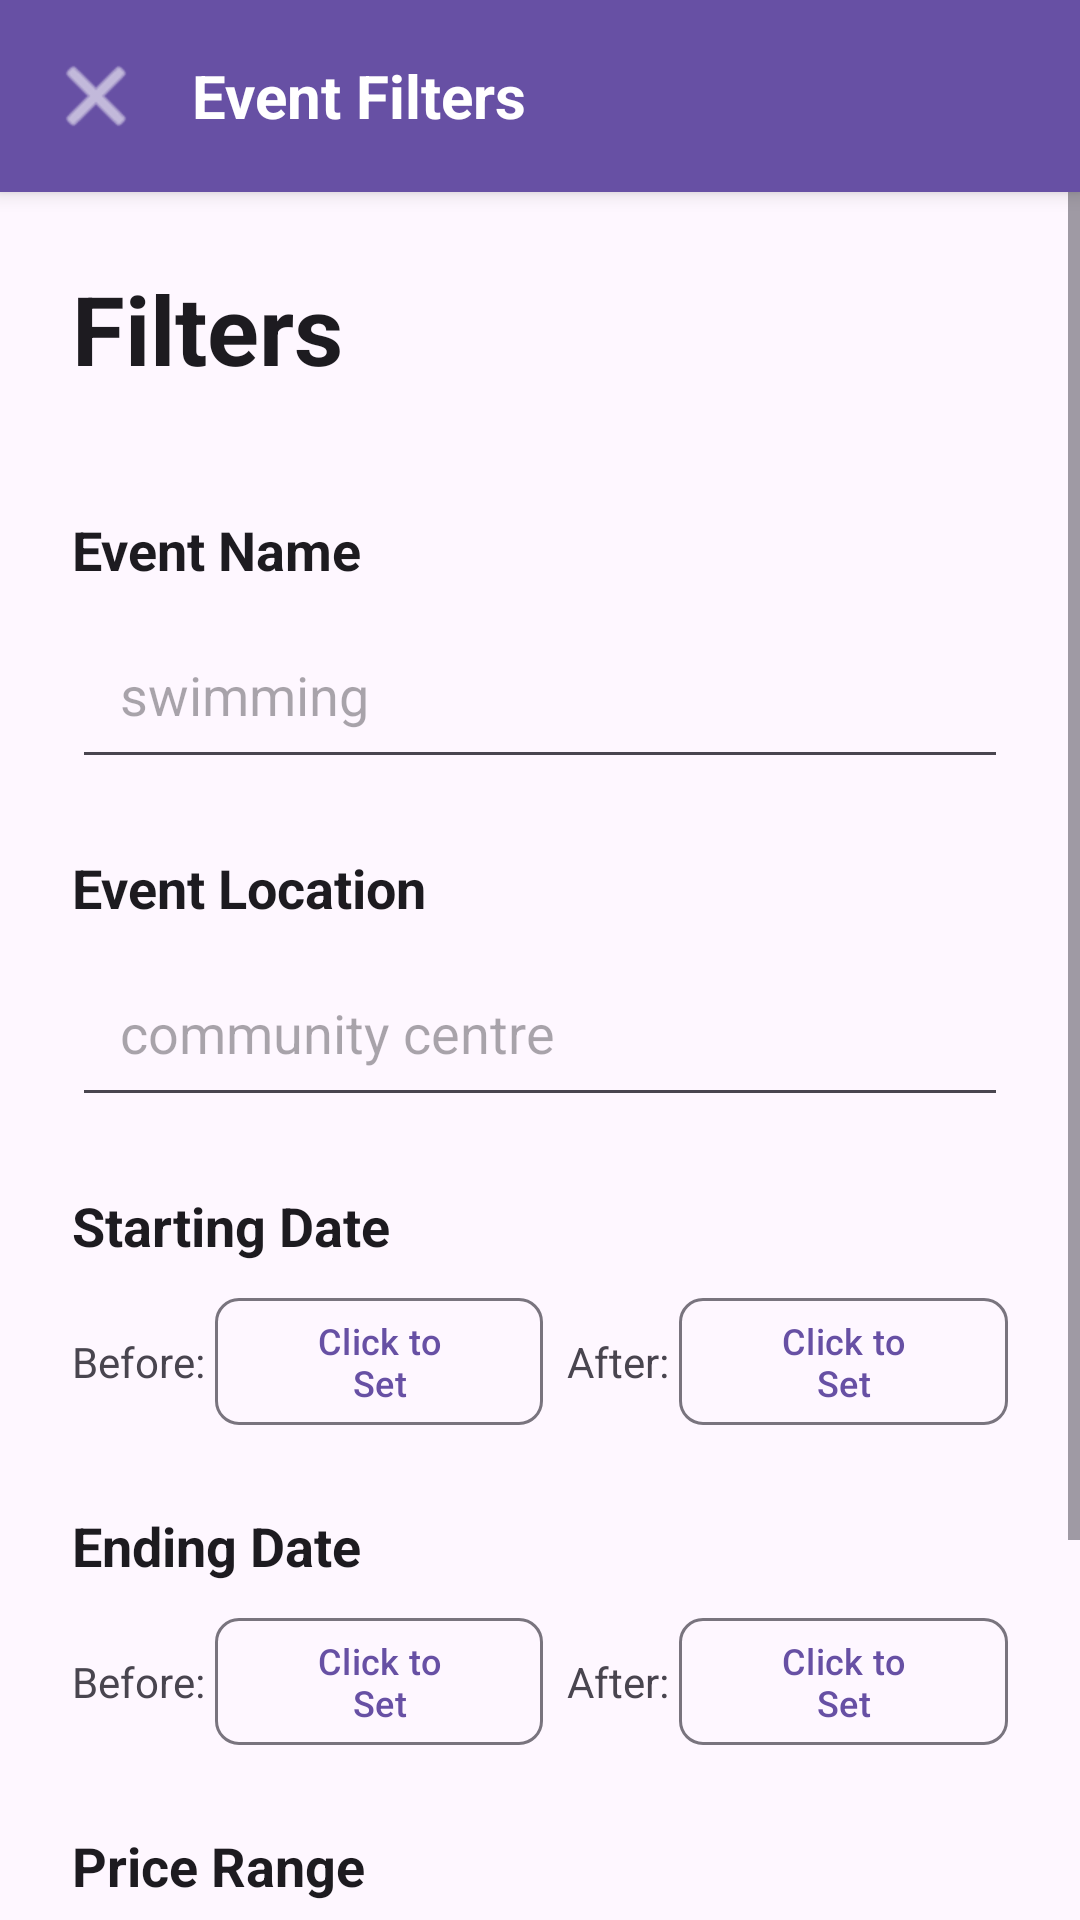

Named icons in this screenshot (1080 x 1920) and their bounding boxes, Rect(x1, y1, x2, y2):
Back: Rect(66, 66, 126, 126)
